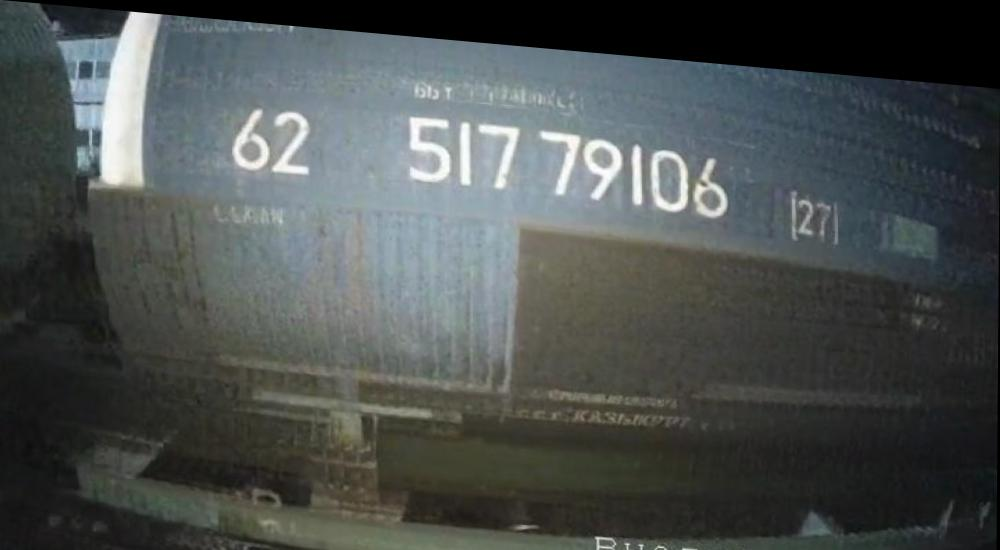Wagon-number: (401, 101, 735, 214)
